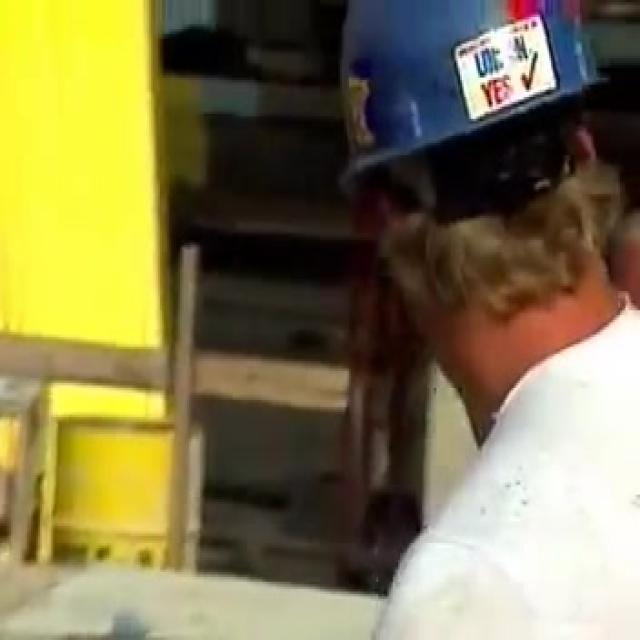Reflective-Jacket: (4, 0, 216, 633), (347, 313, 640, 635)
Safety-Helmet: (329, 2, 627, 202)
